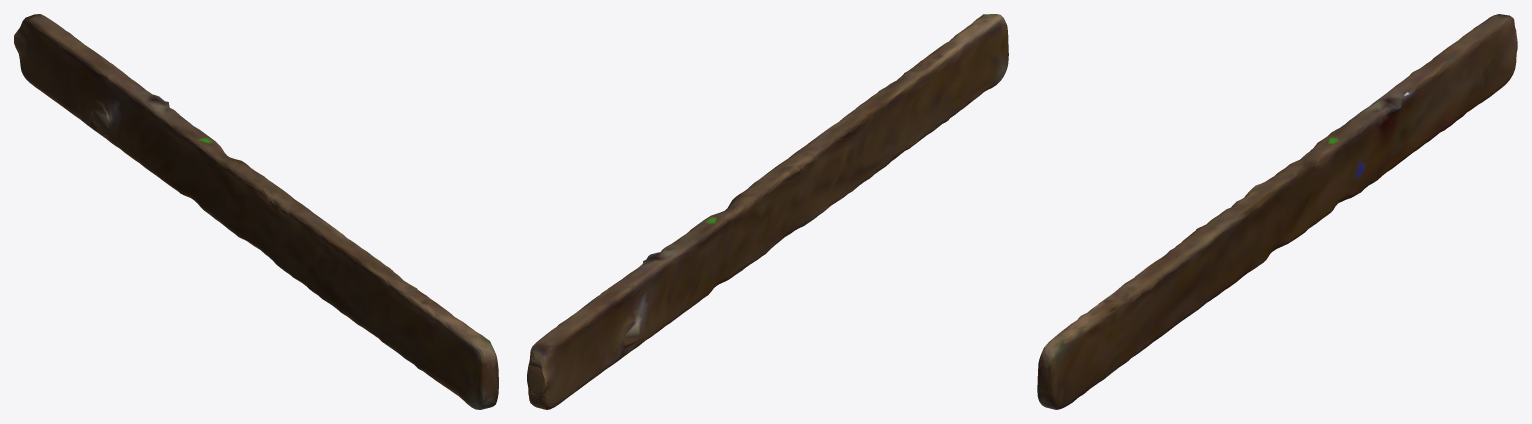
File: scan.obj
3 views of the same model, side by side, from view 1: azimuth 30°, elevation 25°; view 2: azimuth 150°, elevation 25°; view 3: azimuth 330°, elevation 25° (orthographic).
Parts seen in each view (by area): view 1: scan.ply; view 2: scan.ply; view 3: scan.ply.
Part boxes in pixels (x1,y1,x2,y2): scan.ply: (14, 14, 498, 409); scan.ply: (527, 14, 1008, 409); scan.ply: (1037, 14, 1517, 409).
Bounding box in the file's own units: 0.00586 × 0.0141 × 0.1759.
